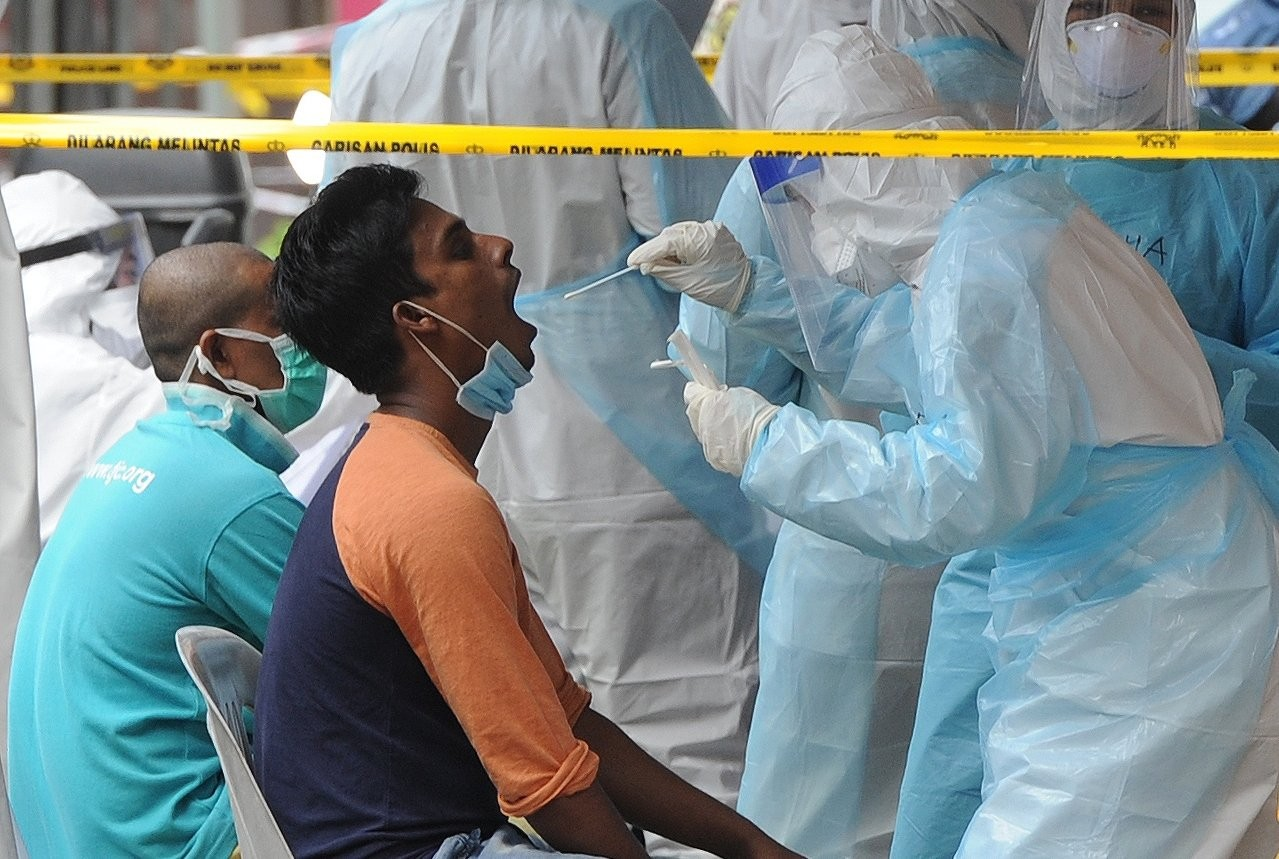Coverall: (908, 188, 1275, 859)
Face_Shield: (747, 144, 920, 370), (1000, 1, 1207, 164)
Gloves: (623, 212, 756, 326), (671, 371, 784, 486)
masked_weared_incorrect: (417, 221, 539, 423)
with_mask: (785, 178, 900, 307), (239, 292, 334, 442), (1061, 1, 1175, 97)
